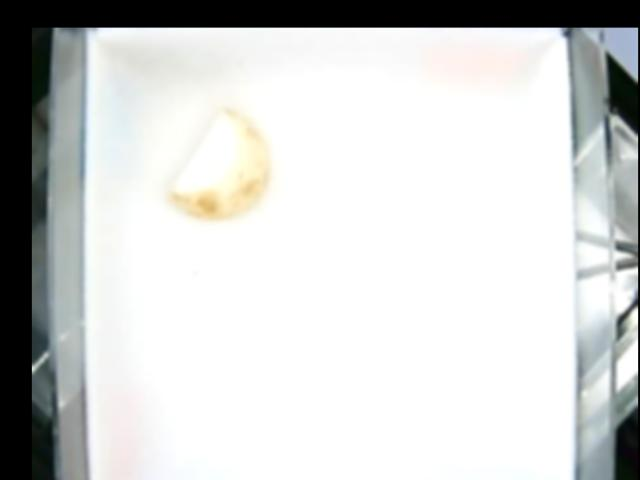Mooli: (169, 106, 268, 219)
